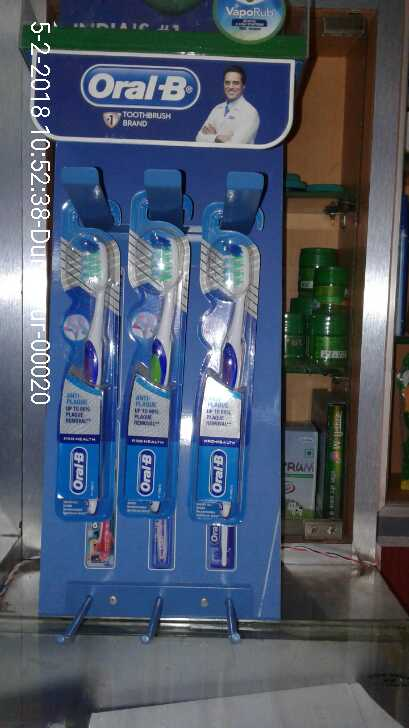oralb: (206, 231, 257, 522), (130, 230, 180, 512), (65, 238, 110, 511)
